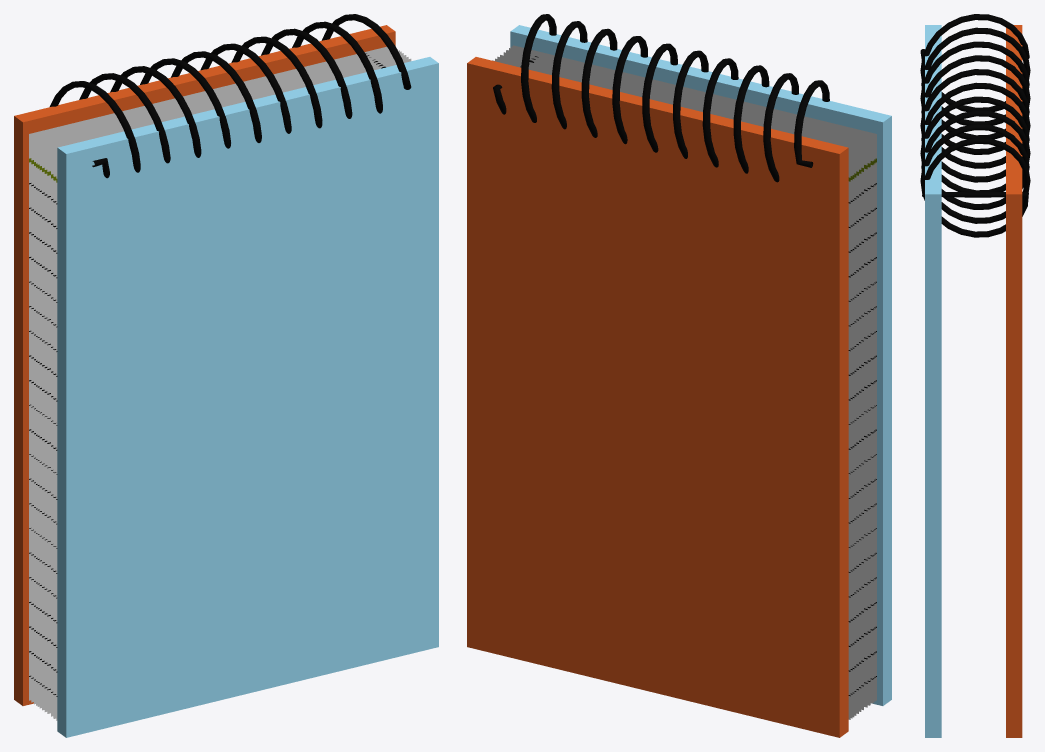
File: notepad.obj
The picture shows the model from 3 angles, left to right: view 1: azimuth 30°, elevation 25°; view 2: azimuth 150°, elevation 25°; view 3: azimuth 270°, elevation 25°; orthographic projection. The views are drawn at different scales.
Visible parts, largest first — view 1: Cube, Spiral.001, Plane.008, Plane.007, Plane, Plane.005, Plane.006, Plane.001, Plane.004, Plane.002, Plane.003, Plane.009 (+2 smaller); view 2: Cube, Spiral.001, Plane.009, Plane.012, Plane.007, Plane.008, Plane.010, Plane.006, Plane.005, Plane.015, Plane.004, Plane.003 (+4 smaller); view 3: Cube, Spiral.001.
Part boxes in pixels (bbox=[...]): Cube: bbox=[14, 25, 438, 737]; Spiral.001: bbox=[49, 14, 411, 178]; Plane.008: bbox=[47, 58, 411, 713]; Plane.007: bbox=[44, 57, 408, 711]; Plane: bbox=[29, 46, 388, 700]; Plane.005: bbox=[39, 53, 403, 708]; Plane.006: bbox=[42, 55, 406, 710]; Plane.001: bbox=[31, 49, 389, 702]; Plane.004: bbox=[37, 51, 401, 706]; Plane.002: bbox=[34, 49, 397, 704]; Plane.003: bbox=[36, 50, 399, 705]; Plane.009: bbox=[51, 148, 57, 716]; Cube: bbox=[467, 25, 891, 737]; Spiral.001: bbox=[493, 14, 829, 182]; Plane.009: bbox=[503, 52, 867, 707]; Plane.012: bbox=[509, 48, 873, 703]; Plane.007: bbox=[497, 56, 861, 711]; Plane.008: bbox=[500, 55, 863, 710]; Plane.010: bbox=[506, 50, 869, 705]; Plane.006: bbox=[495, 58, 858, 713]; Plane.005: bbox=[492, 60, 856, 715]; Plane.015: bbox=[511, 46, 875, 701]; Plane.004: bbox=[848, 149, 854, 717]; Plane.003: bbox=[848, 151, 852, 718]; Cube: bbox=[925, 25, 1022, 737]; Spiral.001: bbox=[920, 14, 1030, 237].
Size of the model in its own units: 0.9834 by 1.57 by 0.2703.
